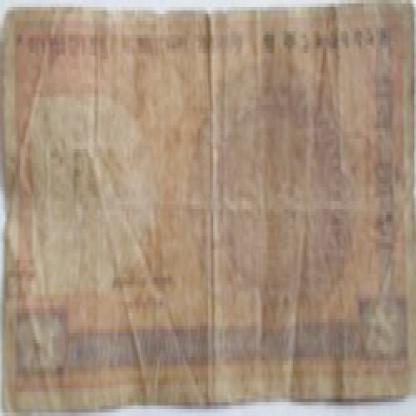One Taka: (18, 312, 68, 371), (361, 302, 406, 364)
